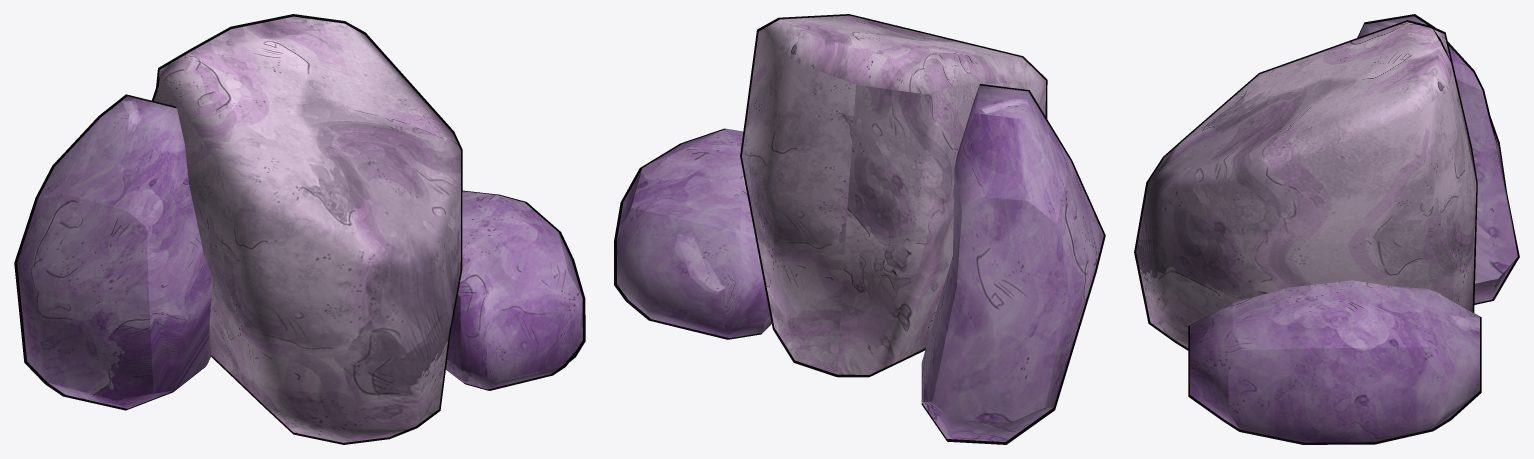
File: s0_Rock_03__1__01.glb
3 views of the same model, side by side, from view 1: azimuth 30°, elevation 25°; view 2: azimuth 150°, elevation 25°; view 3: azimuth 270°, elevation 25° (orthographic). The views are drawn at different scales.
Parts seen in each view (by area): view 1: node_Rock_03 (1); view 2: node_Rock_03 (1); view 3: node_Rock_03 (1).
Boxes of the visible parts, <box> form: node_Rock_03 (1): <box>14,14,585,444</box>; node_Rock_03 (1): <box>614,14,1105,444</box>; node_Rock_03 (1): <box>1134,14,1519,444</box>.
Size of what is drawn, in the model's own units: 6.53 by 4.39 by 4.86.
3 materials, 2 textured.
